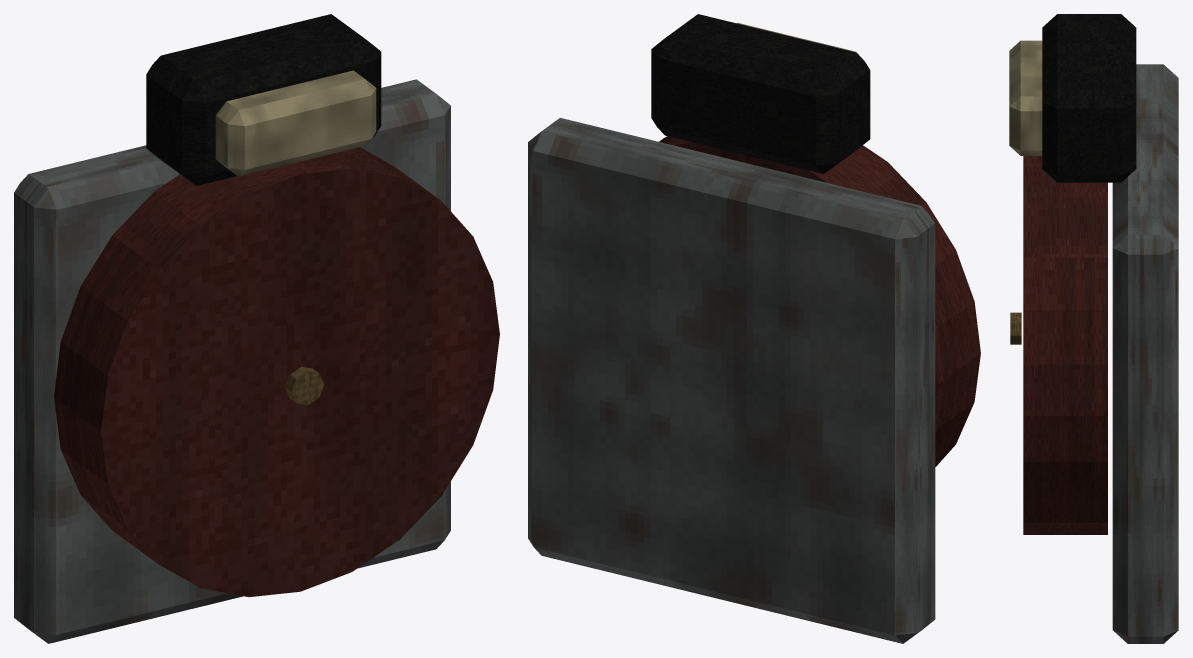
File: level_event_fire_alarm_worn.glb
3 views of the same model, side by side, from view 1: azimuth 30°, elevation 25°; view 2: azimuth 150°, elevation 25°; view 3: azimuth 270°, elevation 25° (orthographic). The views are drawn at different scales.
Visible parts, largest first — view 1: level_event_fire_alarm_worn; view 2: level_event_fire_alarm_worn; view 3: level_event_fire_alarm_worn.
Part boxes in pixels (x1=…): level_event_fire_alarm_worn: x1=14, y1=14, x2=499, y2=643; level_event_fire_alarm_worn: x1=528, y1=14, x2=980, y2=643; level_event_fire_alarm_worn: x1=1009, y1=14, x2=1178, y2=643.
Size of the model in its own units: 0.23 by 0.2975 by 0.09.
Materials: 5 (5 with a texture image).
